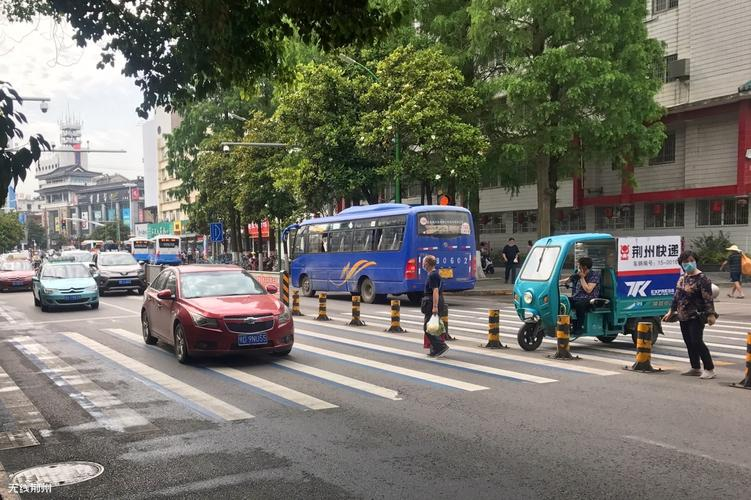bus: (282, 203, 482, 303), (150, 236, 183, 265), (125, 238, 153, 264)
camera: (38, 101, 46, 113), (223, 144, 230, 155)
car: (140, 264, 296, 364), (31, 262, 101, 312), (92, 251, 147, 296), (0, 253, 35, 292)
person: (662, 253, 719, 379), (556, 254, 602, 355), (419, 256, 452, 358), (720, 248, 750, 299), (501, 237, 520, 284), (740, 331, 751, 387), (479, 241, 495, 276)
sign: (210, 222, 224, 242)
traffic light: (436, 191, 451, 209)
truck: (510, 233, 686, 358)
